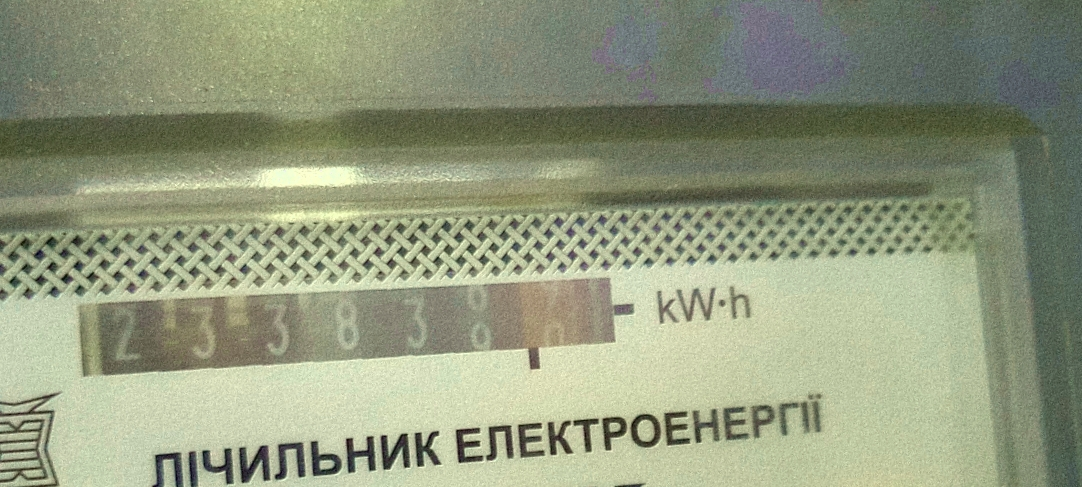0: (540, 318, 569, 354)
2: (104, 302, 148, 366)
3: (255, 295, 297, 362), (400, 291, 433, 351), (187, 301, 219, 362)
8: (328, 293, 366, 354), (464, 279, 493, 313)
9: (534, 274, 567, 315), (466, 317, 498, 356)
screen: (45, 229, 650, 441)
